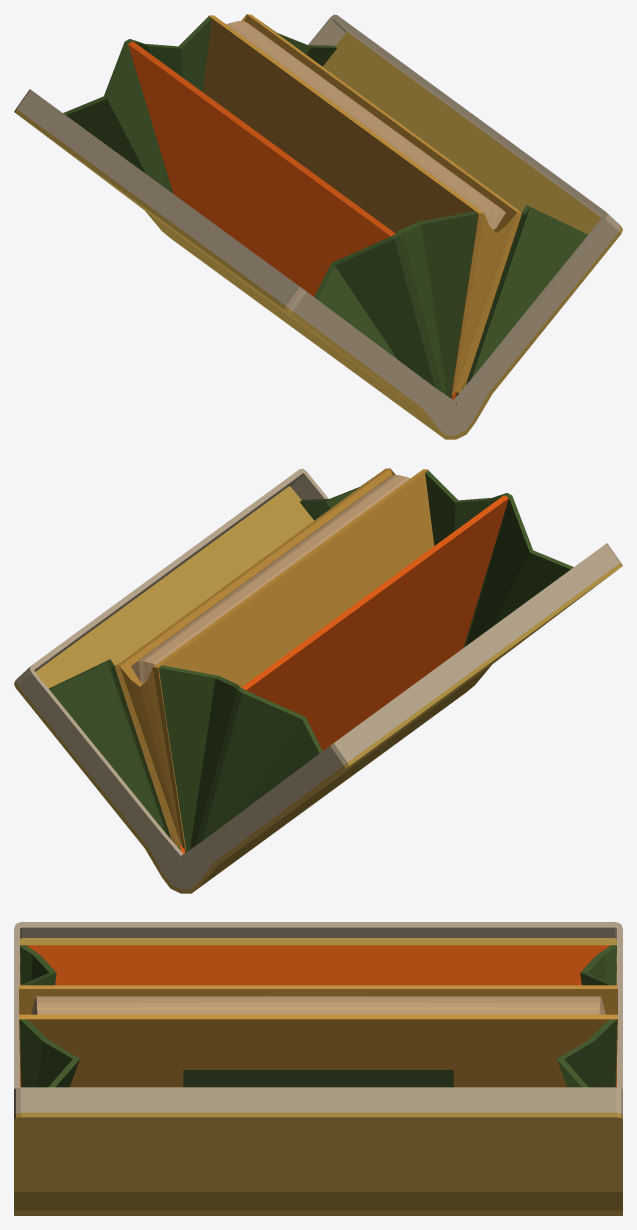
File: wallet.glb
3 views of the same model, one above another, from view 1: azimuth 30°, elevation 25°; view 2: azimuth 150°, elevation 25°; view 3: azimuth 270°, elevation 25° (orthographic). The views are drawn at different scales.
Visible parts, largest first — view 1: 横布, 中ファスナーしきり１.001, 中ポケットしきり, ファスナー内布, 外布, ファスナー布; view 2: 横布, 中ファスナーしきり１.001, 中ポケットしきり, ファスナー内布, 外布, ファスナー布; view 3: 外布, 中ファスナーしきり１.001, ファスナー内布, 中ポケットしきり, ファスナー布, 横布, 内ポケット.
Part boxes in pixels (box(x1,y1,x2,y2)): 横布: box(63, 16, 587, 398); 中ファスナーしきり１.001: box(202, 14, 521, 395); 中ポケットしきり: box(128, 41, 395, 296); ファスナー内布: box(16, 14, 620, 435); 外布: box(14, 32, 622, 439); ファスナー布: box(226, 21, 505, 229); 横布: box(49, 470, 573, 852); 中ファスナーしきり１.001: box(115, 468, 434, 849); 中ポケットしきり: box(241, 495, 508, 750); ファスナー内布: box(16, 468, 620, 889); 外布: box(14, 486, 622, 893); ファスナー布: box(131, 475, 410, 683); 外布: box(14, 938, 622, 1215); 中ファスナーしきり１.001: box(19, 985, 617, 1087); ファスナー内布: box(14, 922, 622, 1114); 中ポケットしきり: box(27, 945, 609, 985); ファスナー布: box(31, 996, 605, 1014); 横布: box(20, 945, 616, 1087); 内ポケット: box(183, 1070, 453, 1087).
Size of the model in its own units: 2.71 by 1.68 by 3.83.
